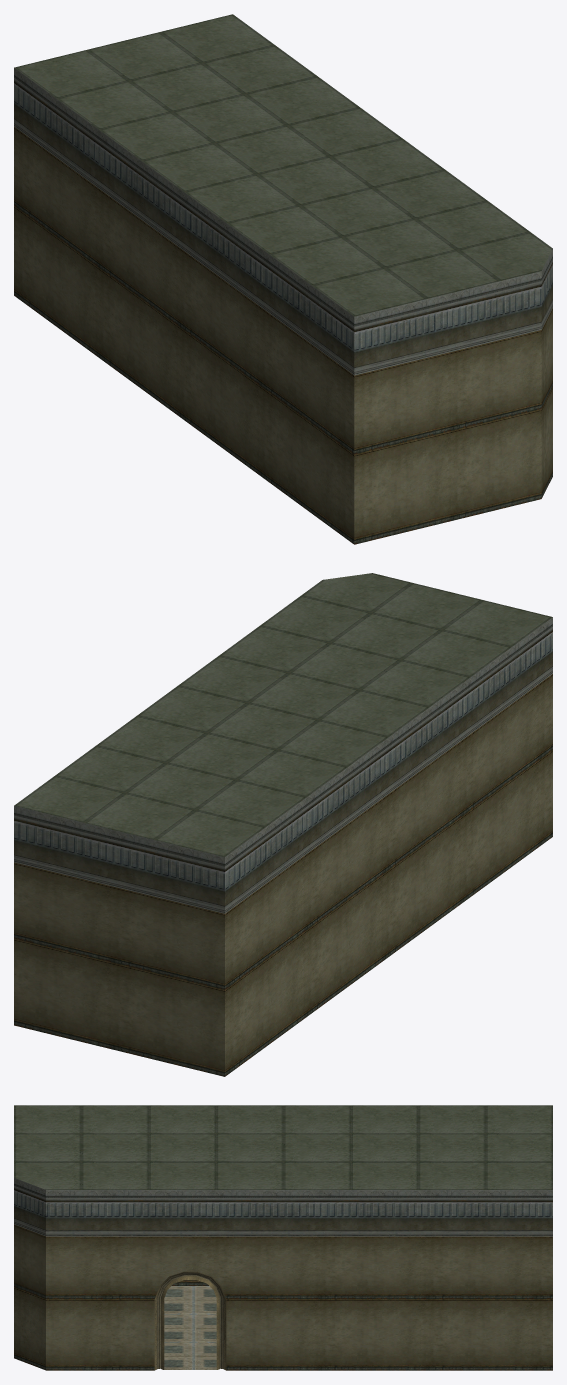
Rendered from mun_all_hotel_s01_r10_mesh_meetingroom3.fbx.
3 renders of one model, top to bottom at view 1: azimuth 30°, elevation 25°; view 2: azimuth 150°, elevation 25°; view 3: azimuth 270°, elevation 25°, orthographic. The views are drawn at different scales.
Parts seen in each view (by area): view 1: mesh_node; view 2: mesh_node; view 3: mesh_node.
Part boxes in pixels (x1,y1,x2,y2): mesh_node: [14, 14, 552, 544]; mesh_node: [14, 573, 552, 1076]; mesh_node: [14, 1105, 552, 1370].
Bounding box in the file's own units: 6.23 × 6.2 × 16.78.
